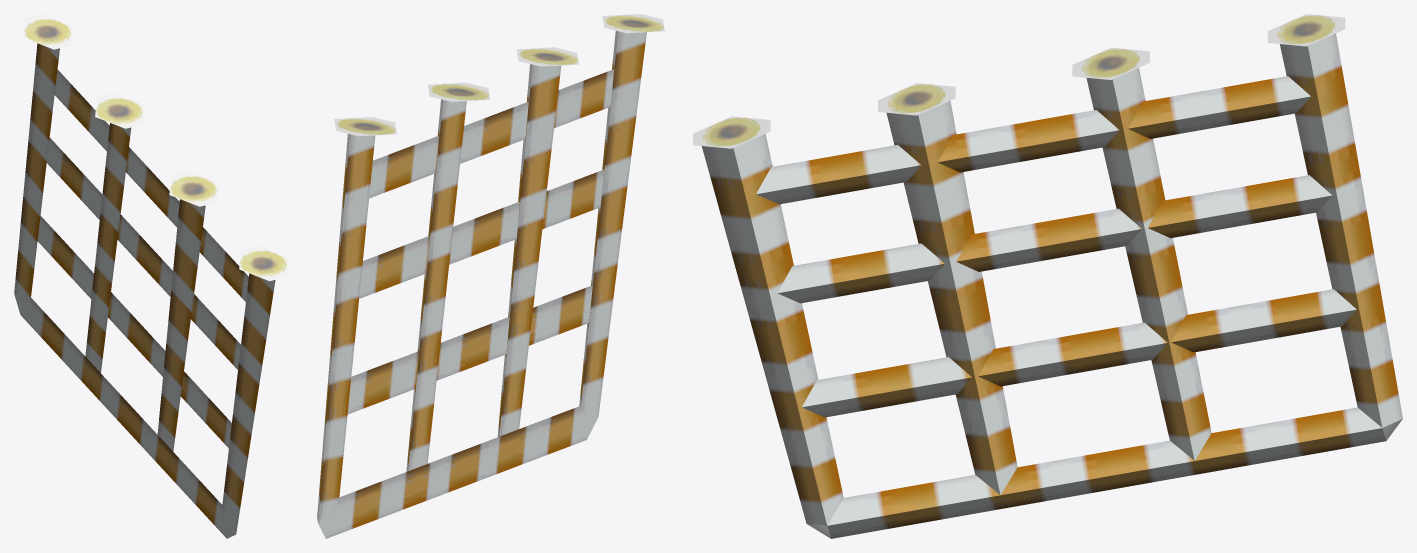
File: montefence_bake.dae
The picture shows the model from 3 angles, left to right: view 1: azimuth 30°, elevation 25°; view 2: azimuth 150°, elevation 25°; view 3: azimuth 270°, elevation 25°; orthographic projection. The views are drawn at different scales.
Parts seen in each view (by area): view 1: m0, m0_VC; view 2: m0, m0_VC; view 3: m0, m0_VC.
Part boxes in pixels (box(x1,y1,x2,y2)): m0: box(14, 19, 286, 538); m0_VC: box(23, 14, 288, 281); m0: box(317, 15, 663, 538); m0_VC: box(334, 14, 664, 136); m0: box(701, 15, 1402, 538); m0_VC: box(693, 14, 1345, 148).
Size of the model in its own units: 36.12 by 252 by 315.
2 materials, 2 textured.
